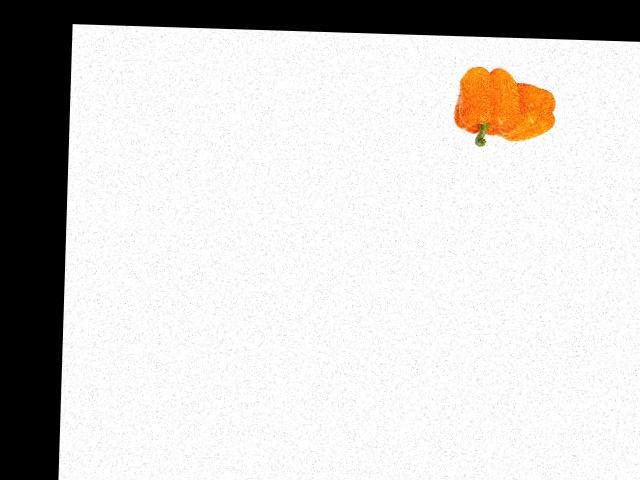bell_pepper: (496, 74, 561, 144)
